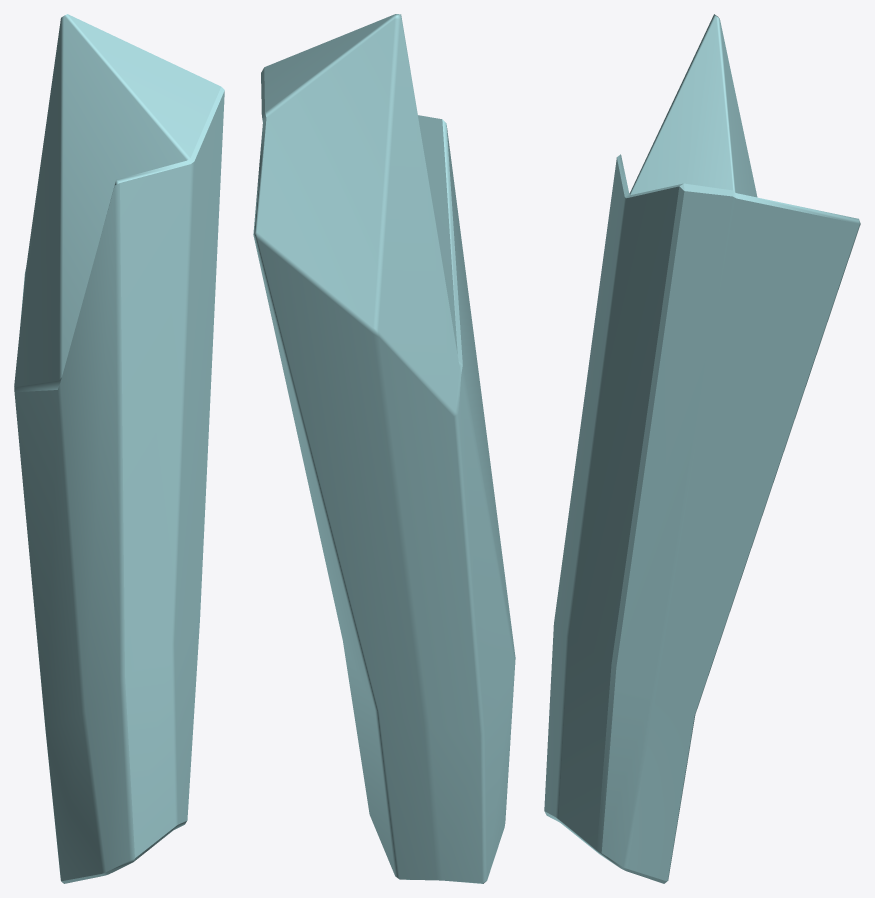
File: Ice_07.fbx
The picture shows the model from 3 angles, left to right: view 1: azimuth 30°, elevation 25°; view 2: azimuth 150°, elevation 25°; view 3: azimuth 270°, elevation 25°; orthographic projection. The views are drawn at different scales.
Visible parts, largest first — view 1: Ice_08; view 2: Ice_08; view 3: Ice_08.
Part boxes in pixels (x1,y1,x2,y2): Ice_08: (14, 14, 224, 883); Ice_08: (253, 14, 515, 883); Ice_08: (544, 14, 860, 883).
Bounding box in the file's own units: 123 × 498 × 166.
